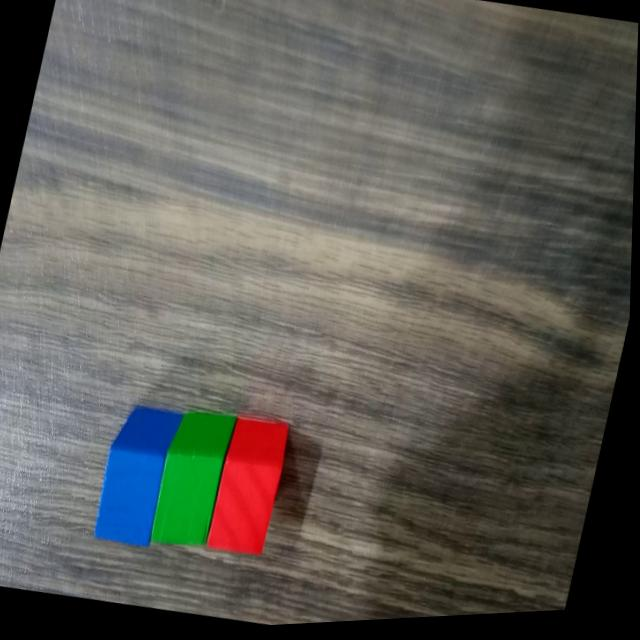cube: (91, 400, 184, 555), (151, 403, 239, 559), (209, 412, 298, 566)
